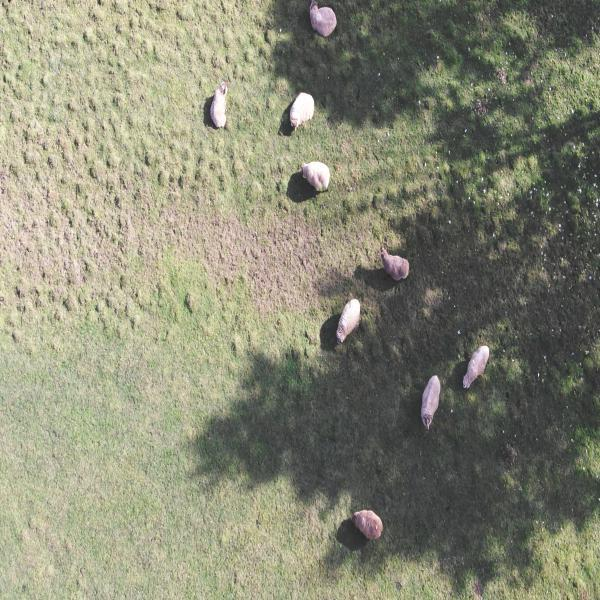sheep: (460, 336, 492, 396), (347, 503, 387, 548), (417, 372, 446, 431), (377, 246, 416, 286), (336, 291, 362, 349), (297, 155, 336, 193), (206, 72, 228, 135), (288, 88, 316, 136), (306, 0, 337, 40)
